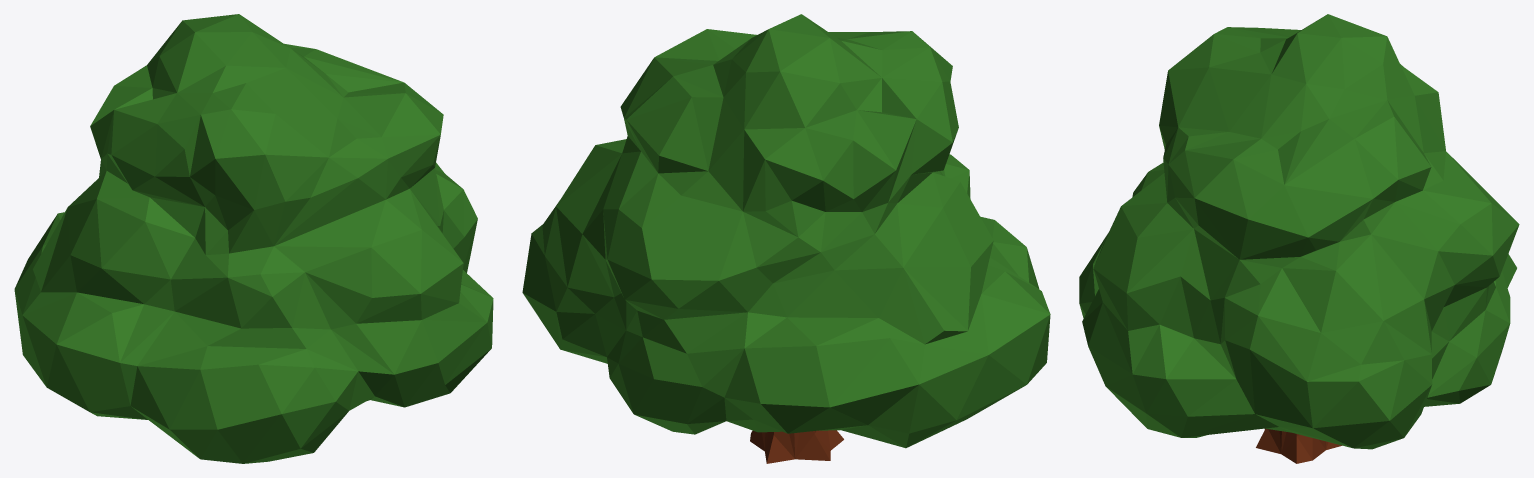
Rendered from beech_1.glb.
3 renders of one model, left to right at view 1: azimuth 30°, elevation 25°; view 2: azimuth 150°, elevation 25°; view 3: azimuth 270°, elevation 25°, orthographic. The views are drawn at different scales.
Parts seen in each view (by area): view 1: Cylinder; view 2: Cylinder; view 3: Cylinder.
Part boxes in pixels (left/top/right/bottom): Cylinder: left=14, top=14, right=493, bottom=463; Cylinder: left=522, top=14, right=1050, bottom=463; Cylinder: left=1079, top=14, right=1519, bottom=463.
Size of the model in its own units: 19.97 by 17.72 by 17.28.
